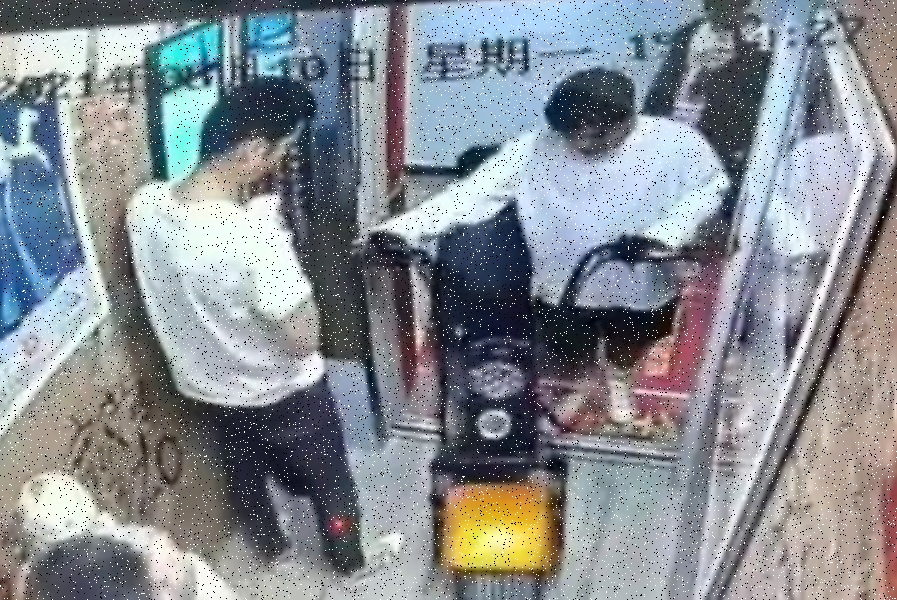ebike: (344, 232, 682, 600)
person: (361, 66, 732, 425), (131, 83, 395, 573)
